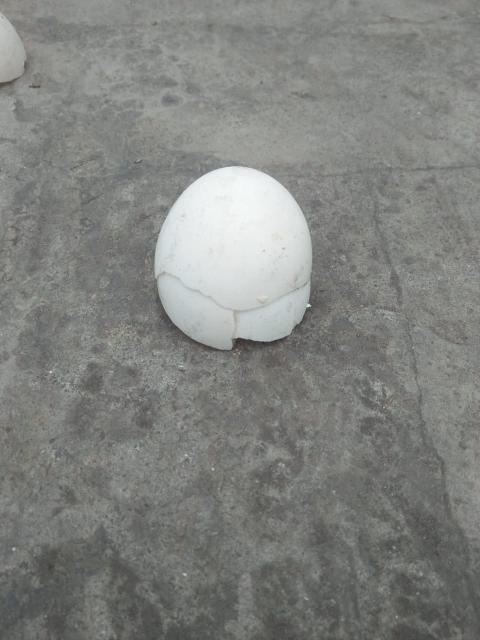Roto: (153, 164, 313, 351), (0, 12, 27, 84)
